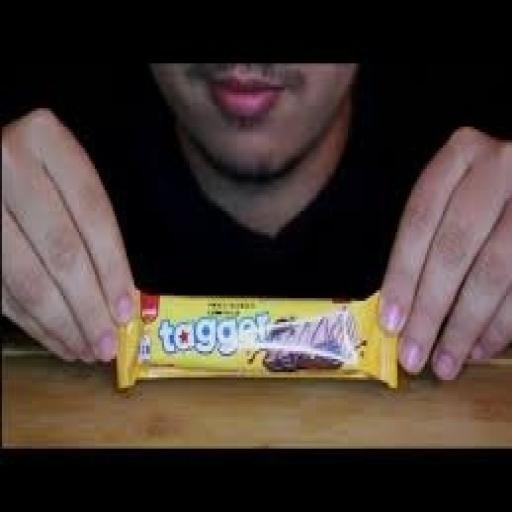tagger: (52, 147, 462, 421)
